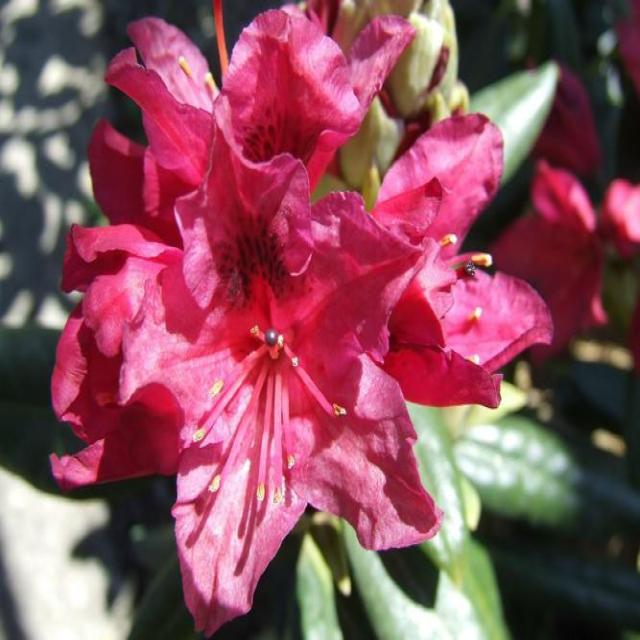azalea: (45, 5, 526, 593)
